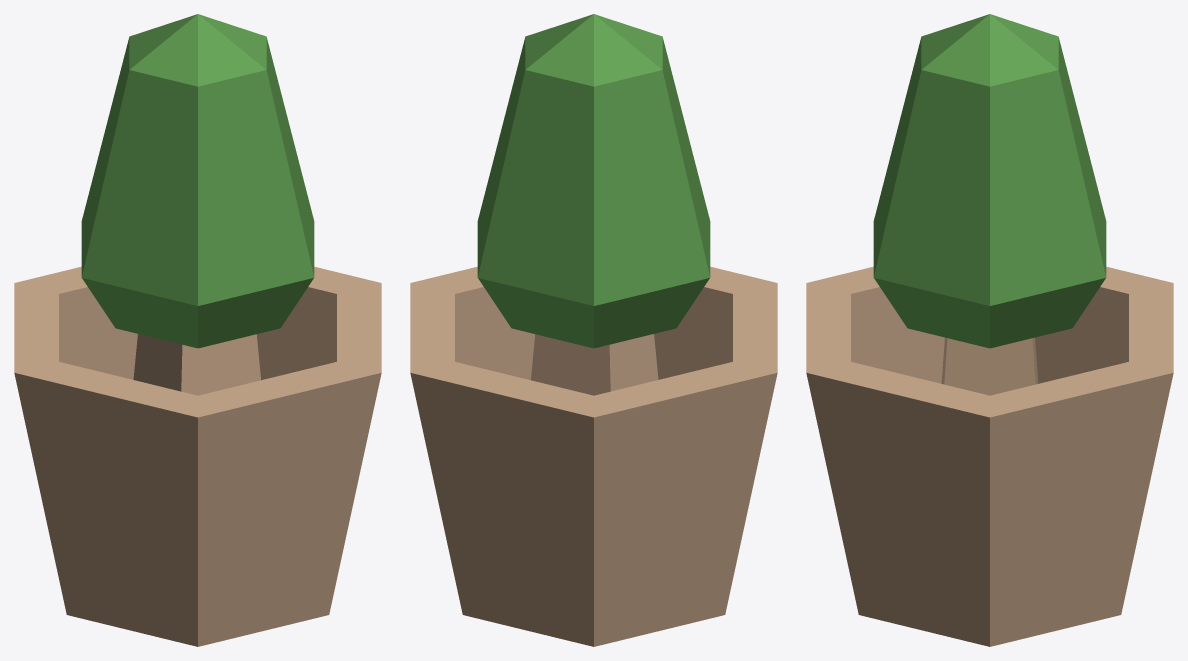
File: plant_c.fbx
3 renders of one model, left to right at view 1: azimuth 30°, elevation 25°; view 2: azimuth 150°, elevation 25°; view 3: azimuth 270°, elevation 25°, orthographic.
Parts seen in each view (by area): view 1: plantSmall3(Clone); view 2: plantSmall3(Clone); view 3: plantSmall3(Clone).
Part boxes in pixels (bbox=[...]): plantSmall3(Clone): bbox=[14, 14, 381, 646]; plantSmall3(Clone): bbox=[410, 14, 777, 646]; plantSmall3(Clone): bbox=[806, 14, 1173, 646].
Bounding box in the file's own units: 0.6759 × 1 × 0.5853.
